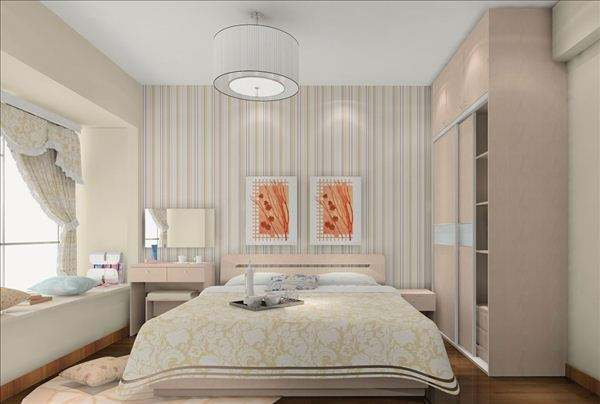床: (150, 291, 438, 398)
枕头: (232, 268, 379, 288), (64, 357, 133, 388), (26, 273, 100, 300)
灯: (206, 14, 302, 102)
